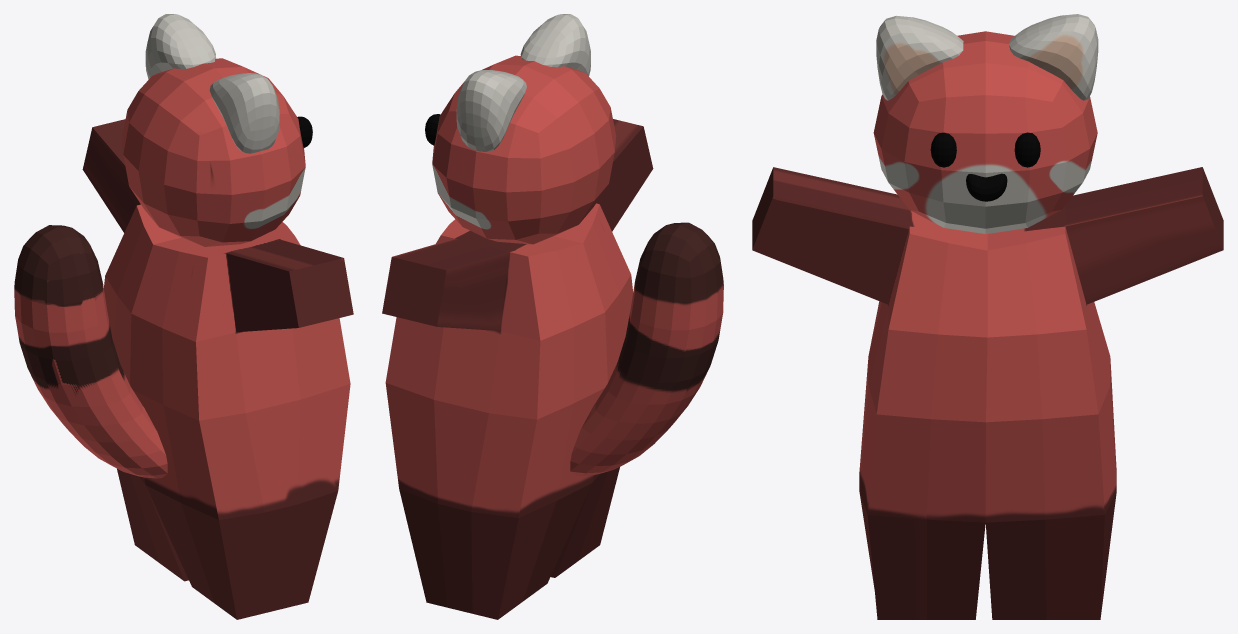
Rendered from berry.glb.
3 renders of one model, left to right at view 1: azimuth 30°, elevation 25°; view 2: azimuth 150°, elevation 25°; view 3: azimuth 270°, elevation 25°, orthographic. The views are drawn at different scales.
Visible parts, largest first — view 1: Cubo.001, cabeza, cola, Cubo.004, Cubo.005; view 2: Cubo.001, cabeza, cola, Cubo.005, Cubo.004; view 3: Cubo.001, cabeza, Cubo.005, Cubo.004, Cubo, Cubo.002, Cubo.003.
Part boxes in pixels (bbox=[...]): Cubo.001: bbox=[82, 119, 353, 619]; cabeza: bbox=[122, 58, 305, 246]; cola: bbox=[14, 225, 167, 478]; Cubo.004: bbox=[209, 73, 279, 153]; Cubo.005: bbox=[145, 14, 215, 79]; Cubo.001: bbox=[382, 119, 653, 619]; cabeza: bbox=[432, 55, 616, 244]; cola: bbox=[570, 222, 723, 476]; Cubo.005: bbox=[456, 70, 526, 152]; Cubo.004: bbox=[520, 14, 590, 76]; Cubo.001: bbox=[752, 167, 1223, 619]; cabeza: bbox=[873, 31, 1097, 234]; Cubo.005: bbox=[1009, 14, 1098, 100]; Cubo.004: bbox=[876, 15, 963, 100]; Cubo: bbox=[966, 173, 1007, 201]; Cubo.002: bbox=[1014, 132, 1040, 167]; Cubo.003: bbox=[930, 132, 956, 167].
Bounding box in the file's own units: 2.54 × 4.37 × 3.22.
Materials: 8 (5 with a texture image).
